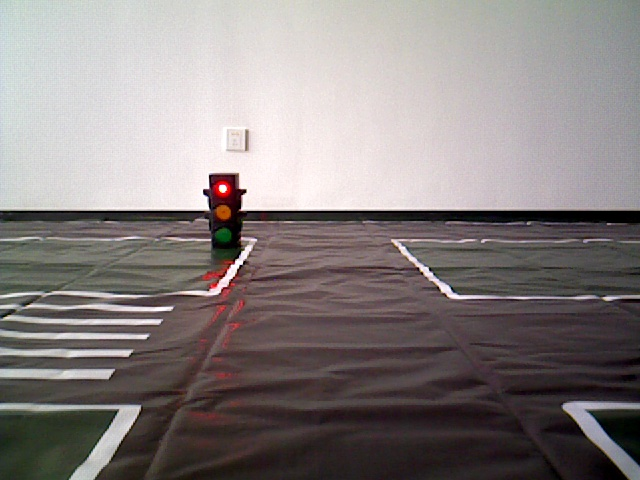red: (208, 175, 239, 251)
